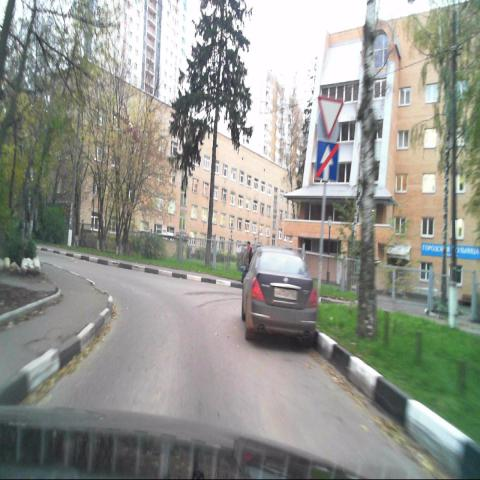2_4: (317, 95, 342, 140)
5_6: (316, 142, 338, 182)
